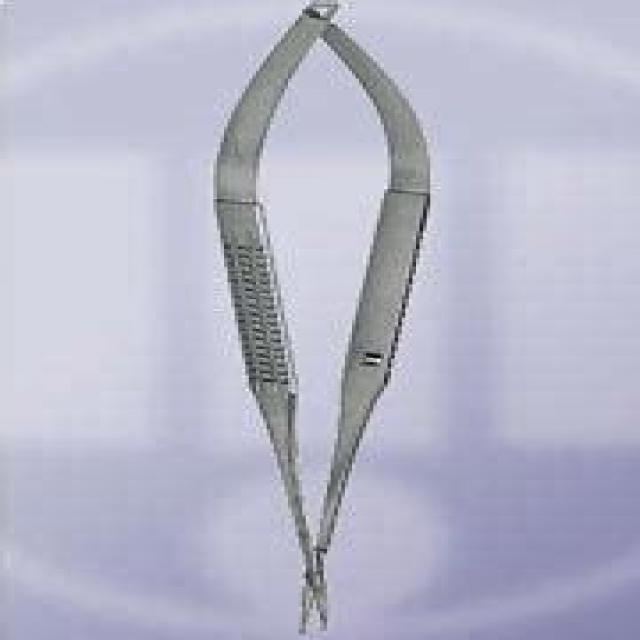Castroviejo: (210, 2, 438, 640)
